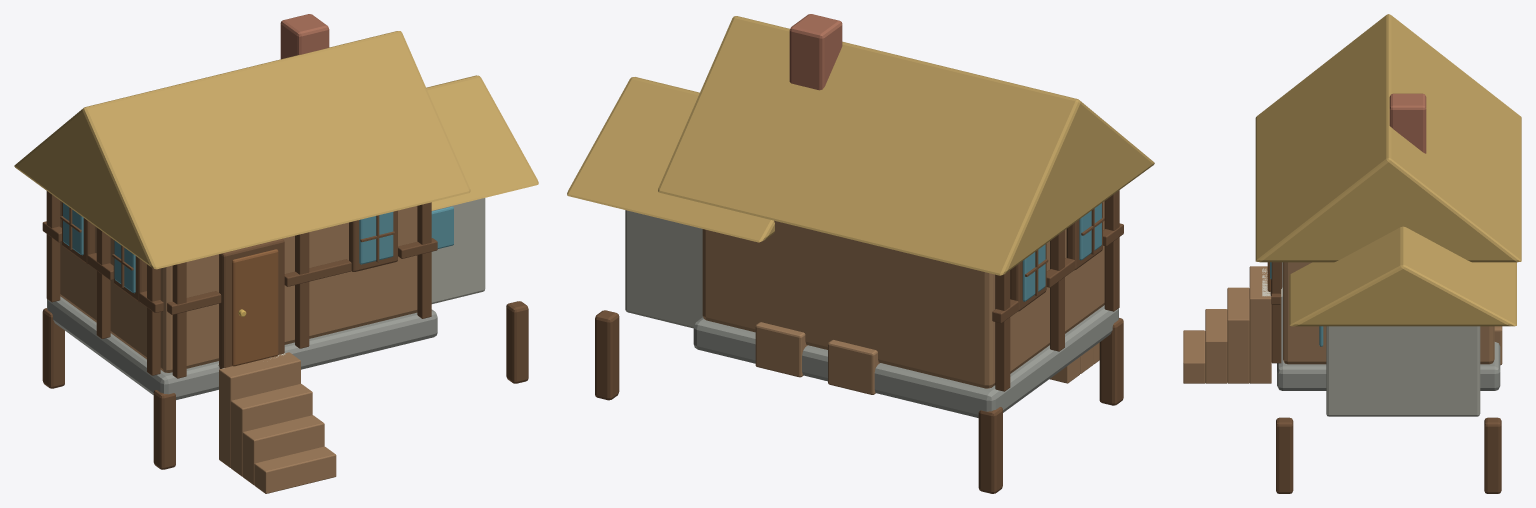
The model's file is wetland-cottage-4.glb.
3 views of the same model, side by side, from view 1: azimuth 30°, elevation 25°; view 2: azimuth 150°, elevation 25°; view 3: azimuth 270°, elevation 25° (orthographic). The views are drawn at different scales.
Visible parts, largest first — view 1: Golden thatch, Aged oak, Dark beams, Foundation stone, Door oak, Fieldstone, Blue glass, Chimney brick; view 2: Golden thatch, Aged oak, Dark beams, Foundation stone, Fieldstone, Chimney brick, Blue glass; view 3: Golden thatch, Fieldstone, Aged oak, Dark beams, Foundation stone, Chimney brick.
Boxes of the visible parts, <box> form: Golden thatch: <box>14,31,538,269</box>; Aged oak: <box>60,201,417,493</box>; Dark beams: <box>42,191,528,469</box>; Foundation stone: <box>47,296,437,399</box>; Door oak: <box>232,249,278,366</box>; Fieldstone: <box>431,198,485,303</box>; Blue glass: <box>63,203,453,293</box>; Chimney brick: <box>280,14,329,59</box>; Golden thatch: <box>567,16,1154,275</box>; Aged oak: <box>702,201,1104,394</box>; Dark beams: <box>595,190,1123,493</box>; Foundation stone: <box>693,305,1118,417</box>; Fieldstone: <box>625,210,702,328</box>; Chimney brick: <box>789,14,842,90</box>; Blue glass: <box>1022,203,1101,301</box>; Golden thatch: <box>1255,14,1521,326</box>; Fieldstone: <box>1326,326,1480,416</box>; Aged oak: <box>1183,262,1502,383</box>; Dark beams: <box>1268,262,1501,493</box>; Foundation stone: <box>1277,262,1500,390</box>; Chimney brick: <box>1389,93,1426,153</box>.
Size of the model in its own units: 4.58 by 3.72 by 3.52.
